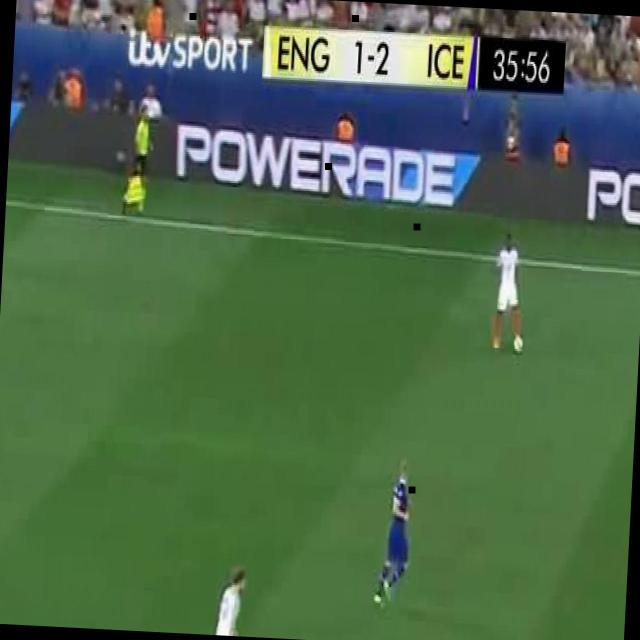ball: (513, 336, 523, 352)
player-white: (373, 458, 416, 608), (490, 232, 526, 352), (123, 106, 154, 214), (205, 566, 247, 636)
